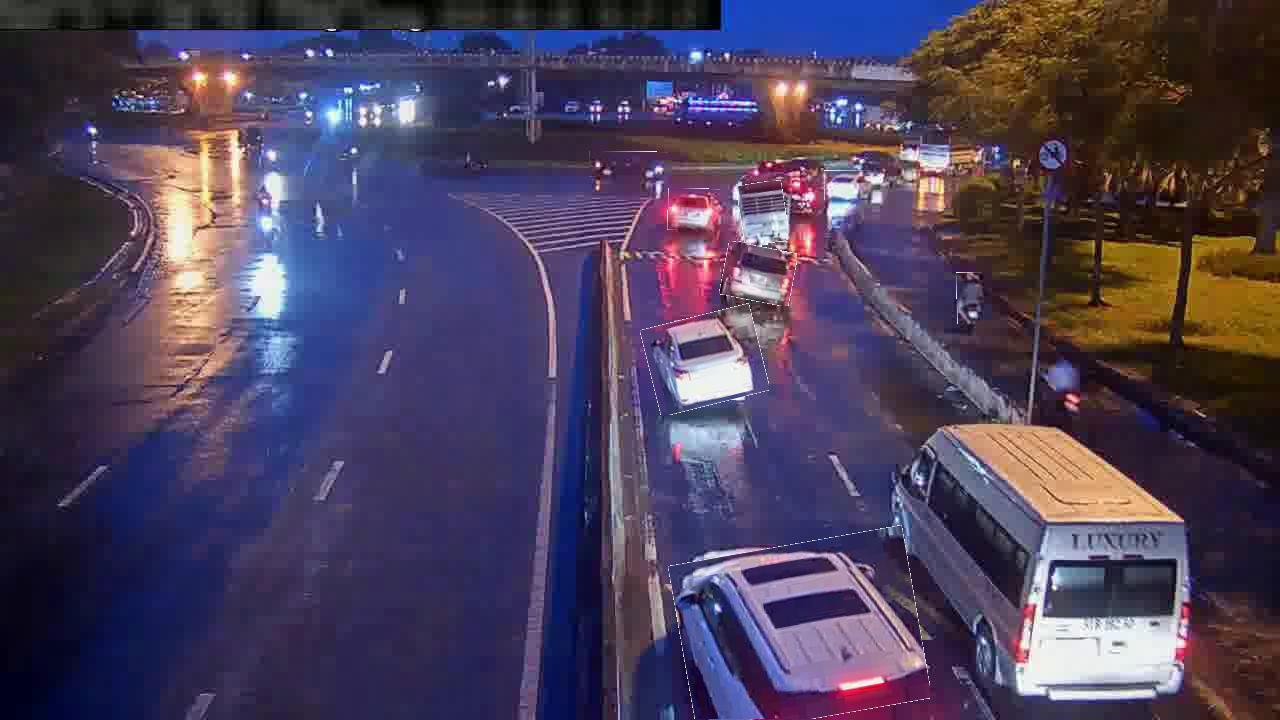car: (674, 534, 925, 719), (644, 309, 766, 410), (722, 244, 796, 304), (668, 189, 721, 231), (589, 152, 669, 178), (824, 170, 875, 201)
container: (738, 182, 787, 246)
motorbike: (957, 272, 982, 325)
